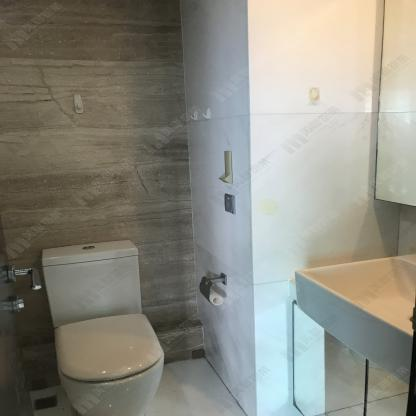Toilet: (41, 239, 165, 416)
Toilet Sink: (294, 254, 416, 385)
